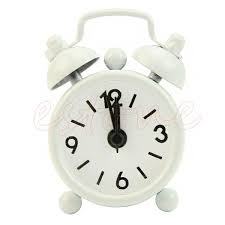alarm_clock: (40, 10, 194, 214), (40, 10, 185, 214)
